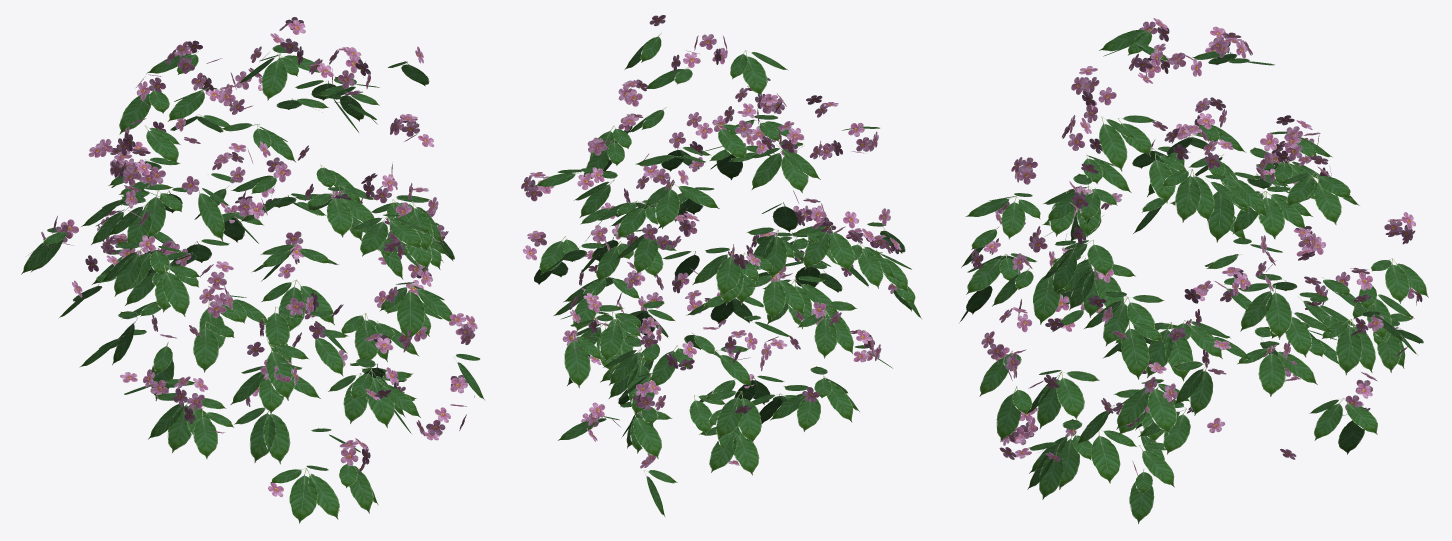
The model's file is MESH_TabebuiaRosea_Y_LOD2.fbx.
The picture shows the model from 3 angles, left to right: view 1: azimuth 30°, elevation 25°; view 2: azimuth 150°, elevation 25°; view 3: azimuth 270°, elevation 25°; orthographic projection. The views are drawn at different scales.
Visible parts, largest first — view 1: MI_LOD2_001, MI_LOD2_002; view 2: MI_LOD2_001, MI_LOD2_002; view 3: MI_LOD2_001, MI_LOD2_002.
Part boxes in pixels (x1,y1,x2,y2): MI_LOD2_001: (21, 44, 484, 523); MI_LOD2_002: (41, 17, 477, 497); MI_LOD2_001: (534, 33, 921, 517); MI_LOD2_002: (521, 15, 901, 468); MI_LOD2_001: (959, 28, 1428, 524); MI_LOD2_002: (971, 18, 1422, 475).
Size of what is drawn, in the model's own units: 174 by 190 by 187.
